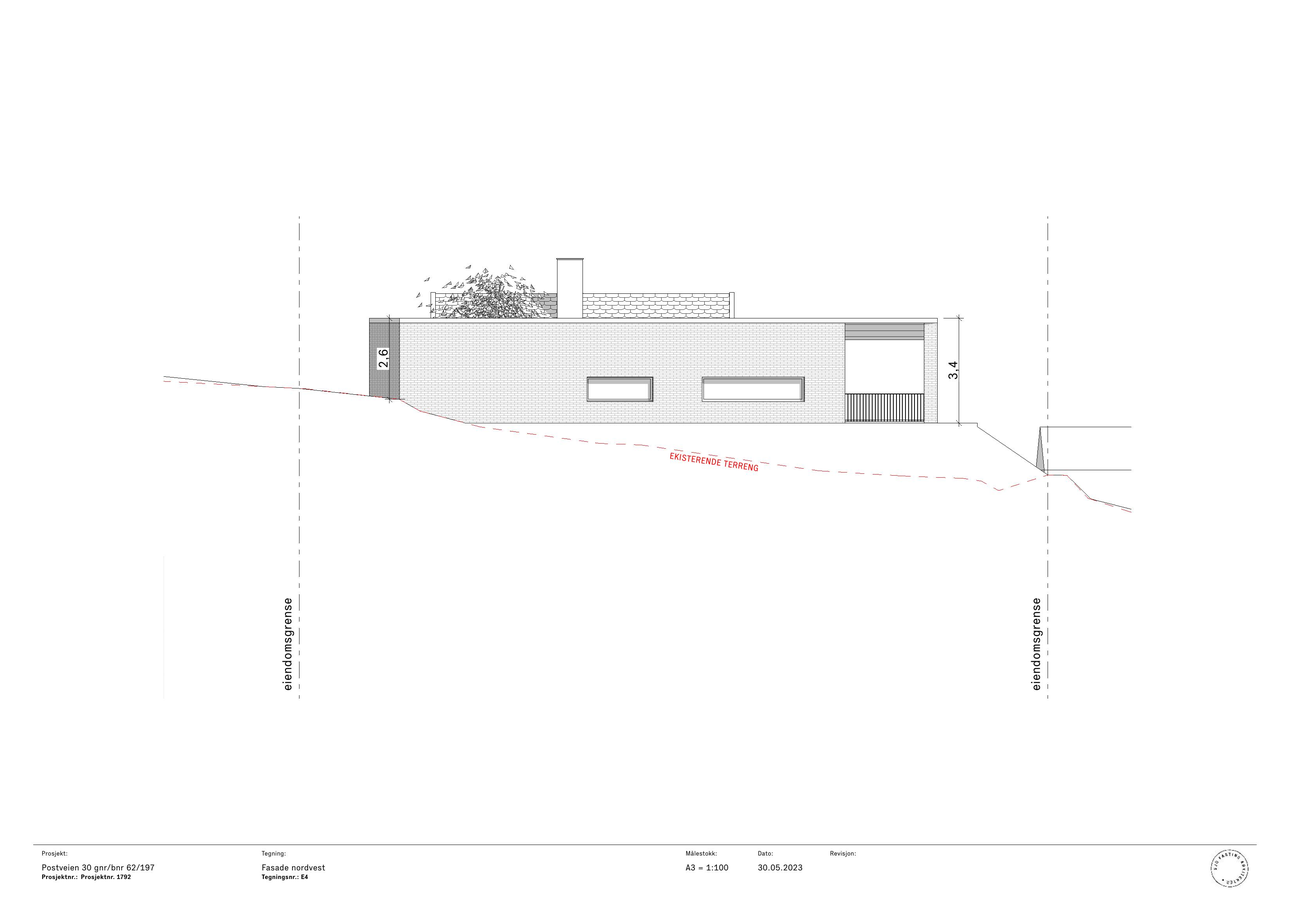fasade: (366, 255, 943, 486)
